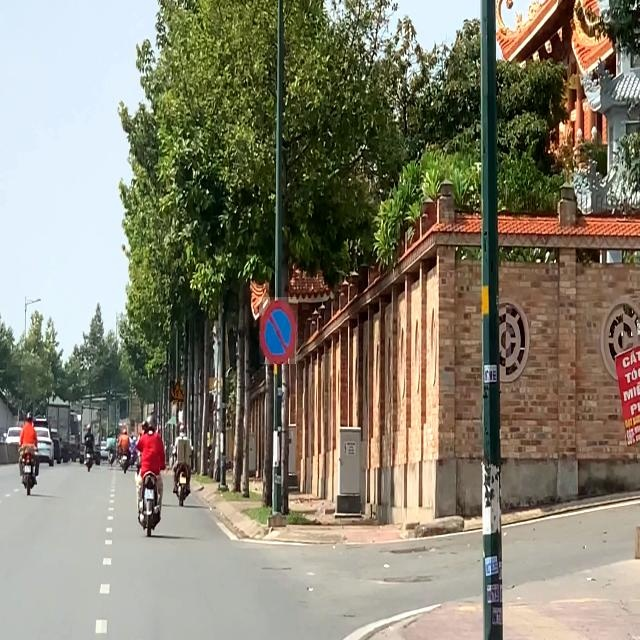bien_cam: (259, 297, 298, 364), (170, 381, 184, 402)
